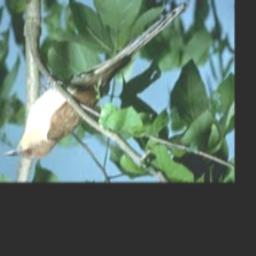Cuckoo: (0, 0, 190, 163)
